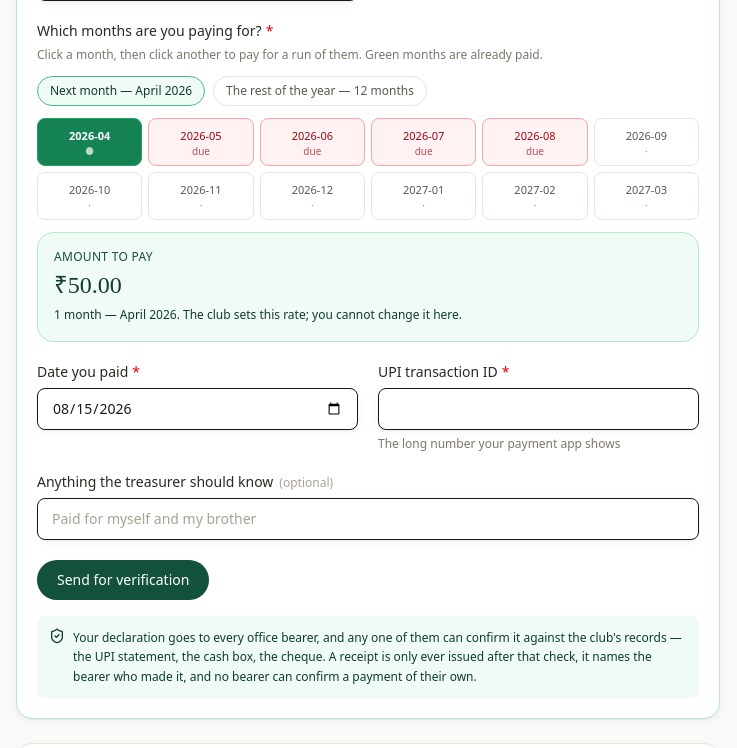
Test: the member’s payment form › reports the server’s refusal rather than pretending it worked
(page scrolled)
In the field labelled "UPI transaction ID*": (538, 408) [378,388,699,430], type "4471829930"
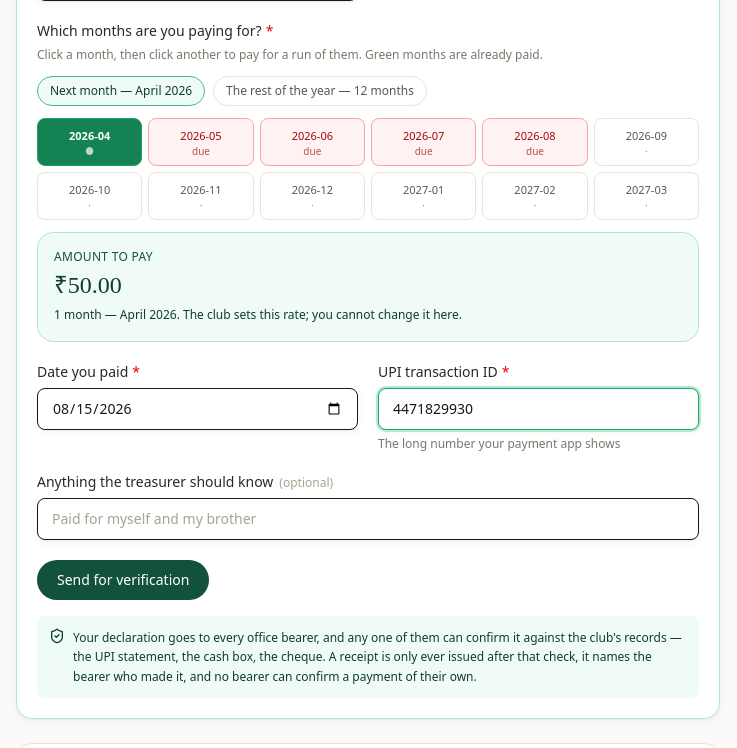
Click the button "Send for verification": (123, 580) [37,560,209,600]
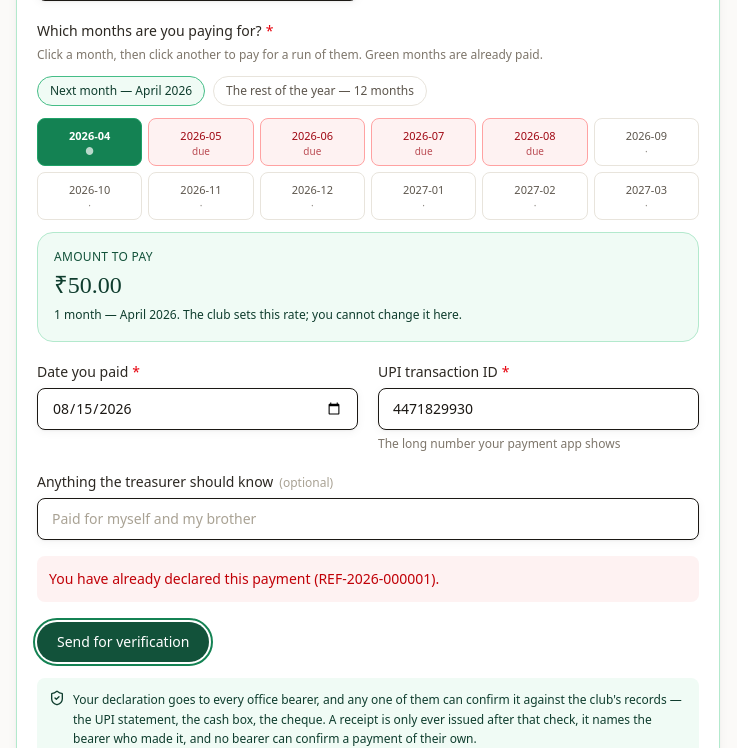
Result: the message shows "already declared this payment" at [49,568,439,588]
